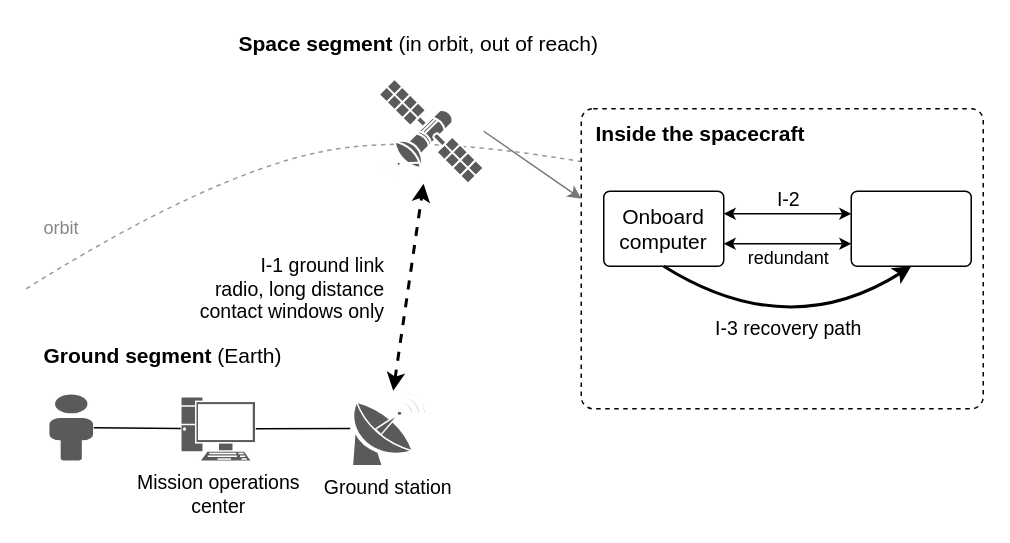
The diagram is 1010 pixels wide and 543 high, and some of its shapes have lost their labels. Each missing label, with the centre of its shape:
"Controller" goes at point 910,228.
"Operator" goes at point 70,426.
